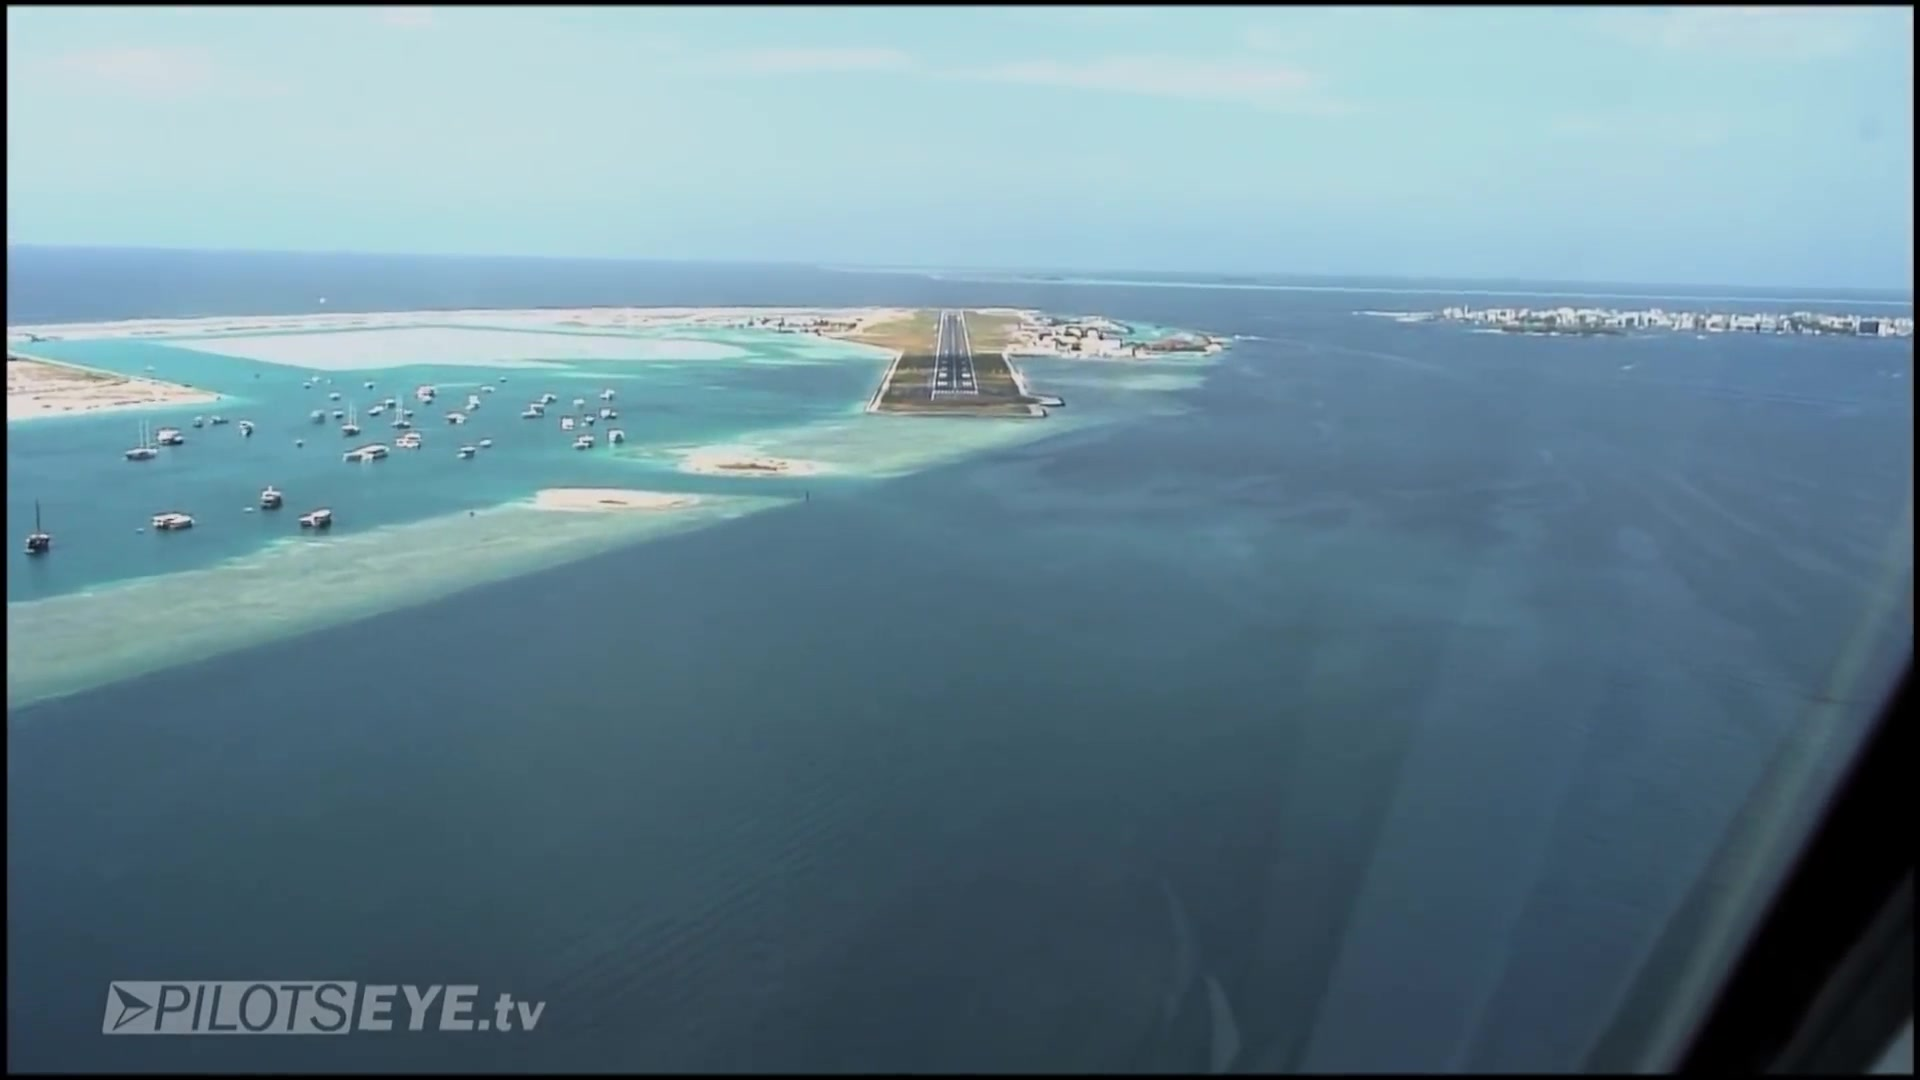runway: (927, 311, 978, 405)
